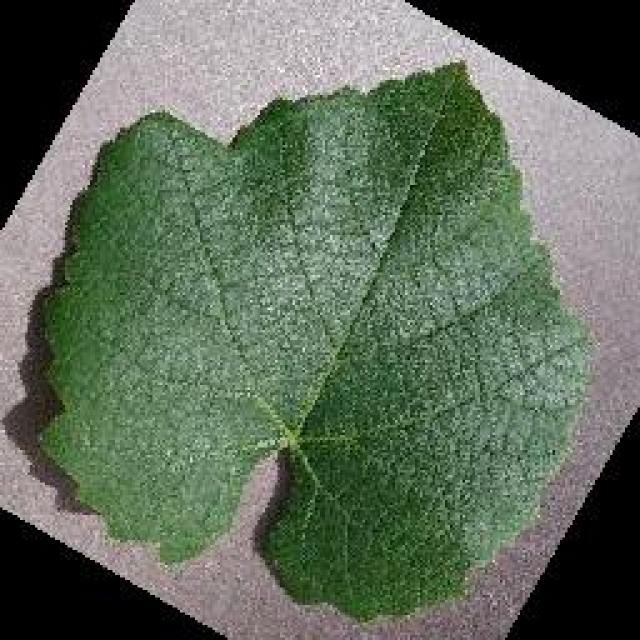Grape___healthy: (40, 65, 588, 618)
